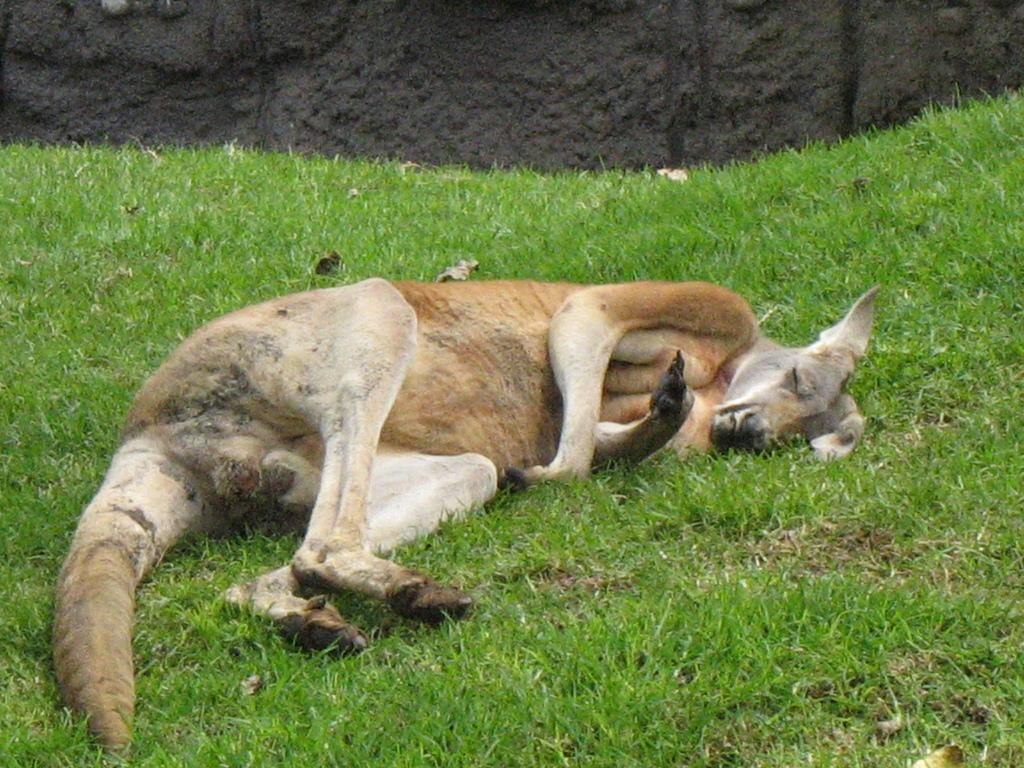kangaroo: (46, 282, 882, 758)
